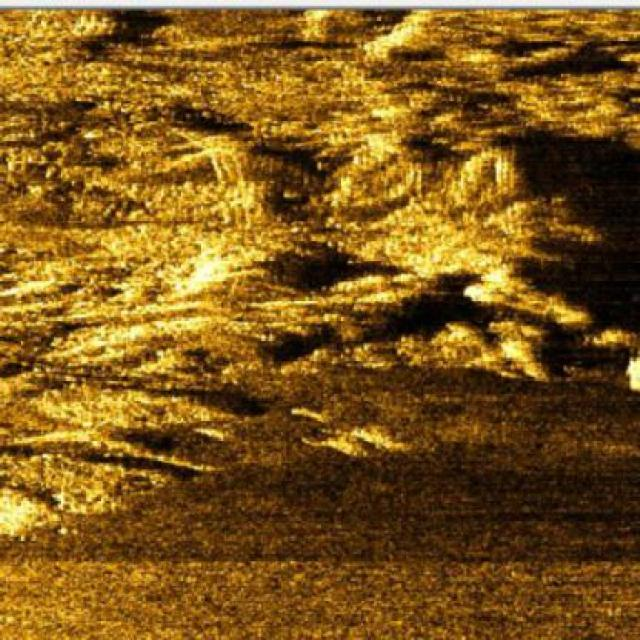bedrock group: (0, 1, 638, 536)
